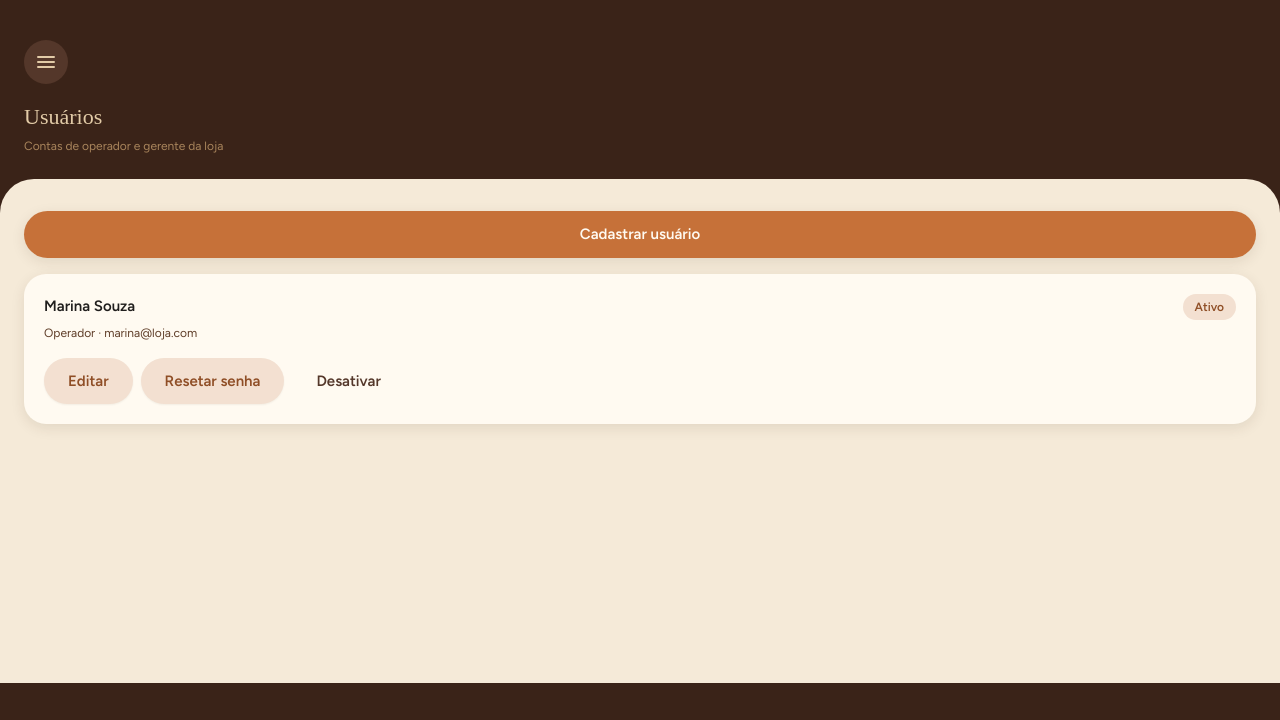
Test: UsersScreen › mostra a recusa do backend quando a ação falha
The image size is (1280, 720).
expect the text "Marina Souza" is shown: met, box left=44, top=294, right=135, bottom=317
Click the button "Desativar". click: (349, 381)
box: left=292, top=358, right=405, bottom=404
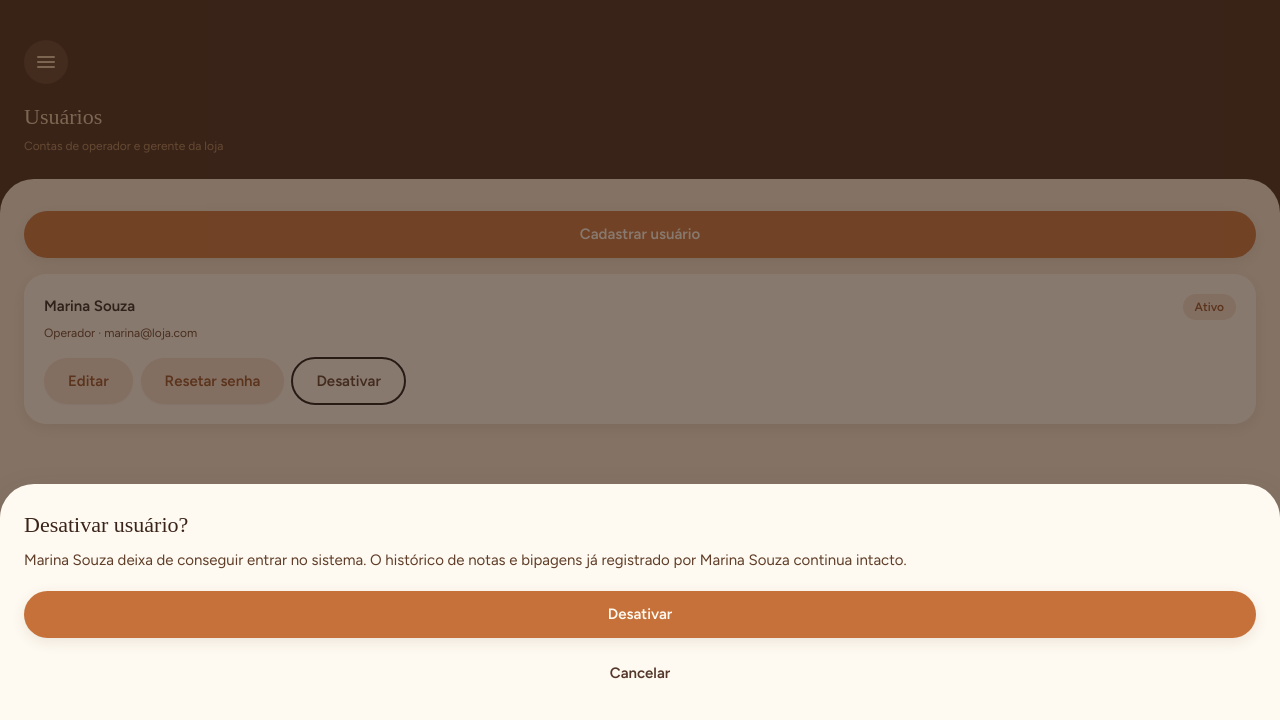
Click the button "Desativar". click: (640, 614)
box: left=24, top=591, right=1256, bottom=638
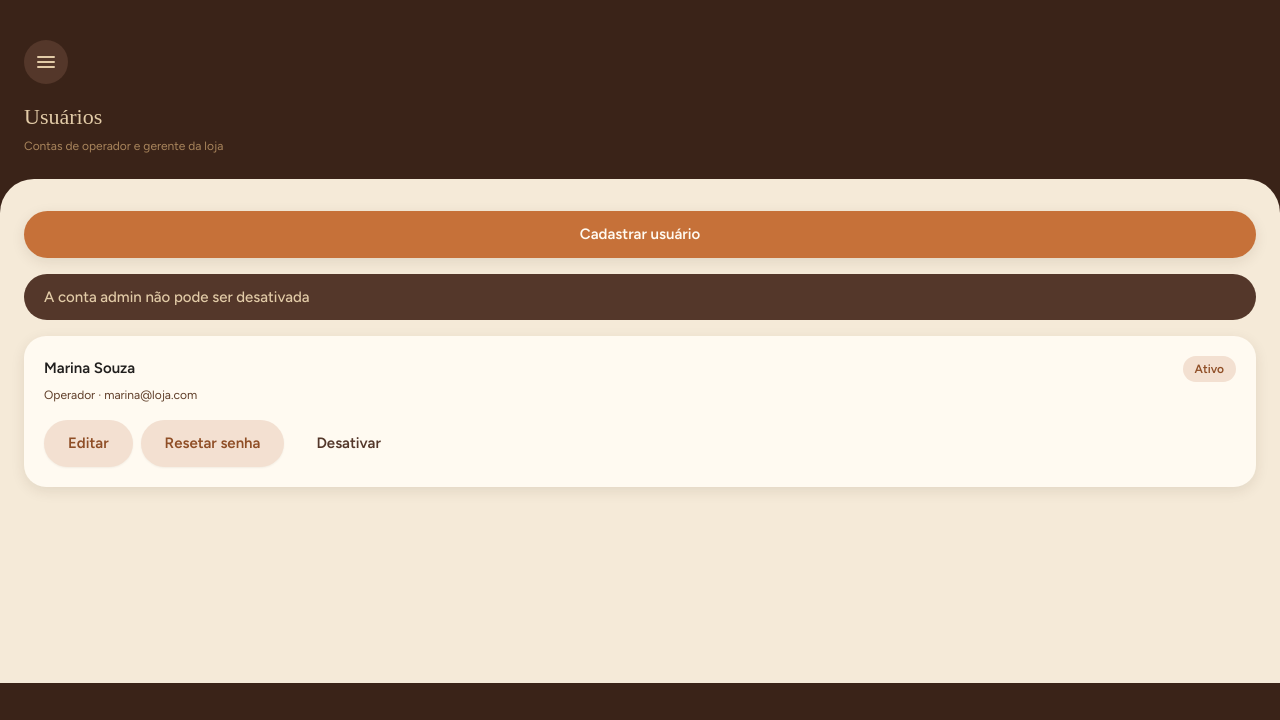
expect the text "A conta admin não pode ser desativada" is shown: met, box left=24, top=274, right=1256, bottom=320
